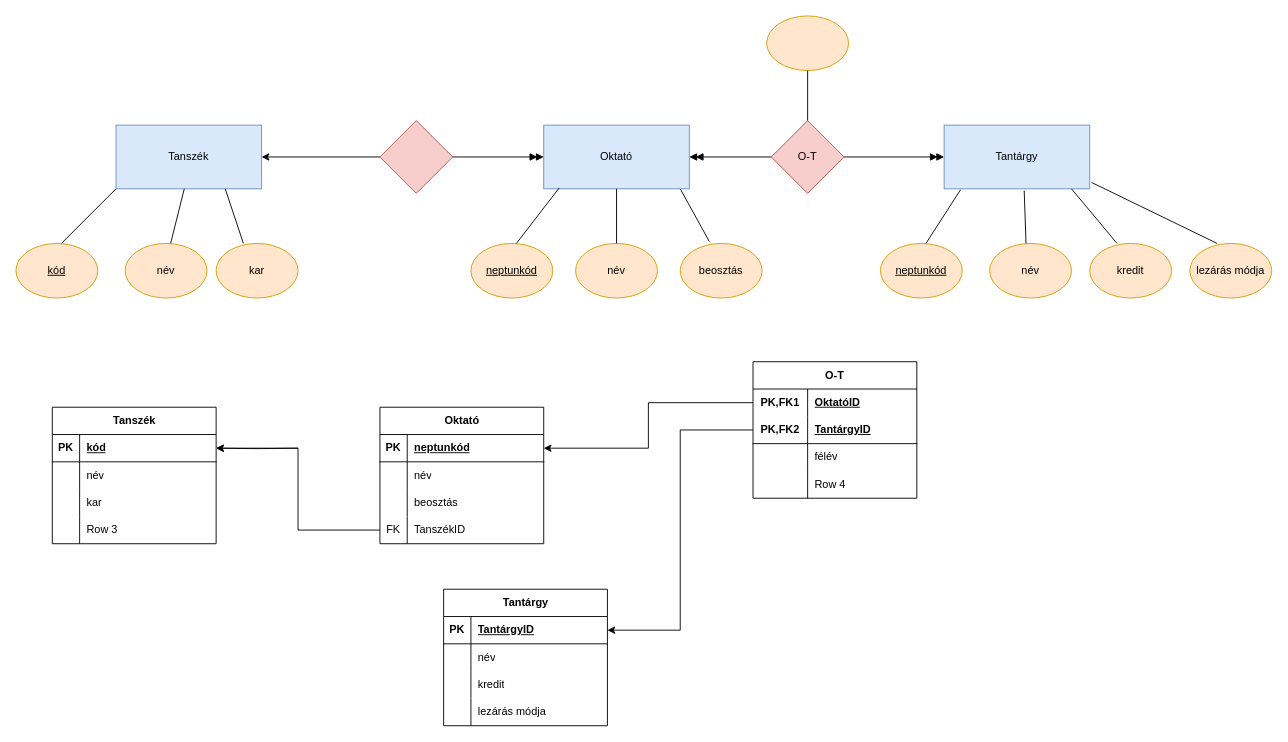
This 1288x742 diagram has some shape labels left out. The shapes that lost their labels are listed below. From the top down, each one's centre as x and y in pixels, then its label:
pixel 807 43: tanév/félév
pixel 416 156: T-0
